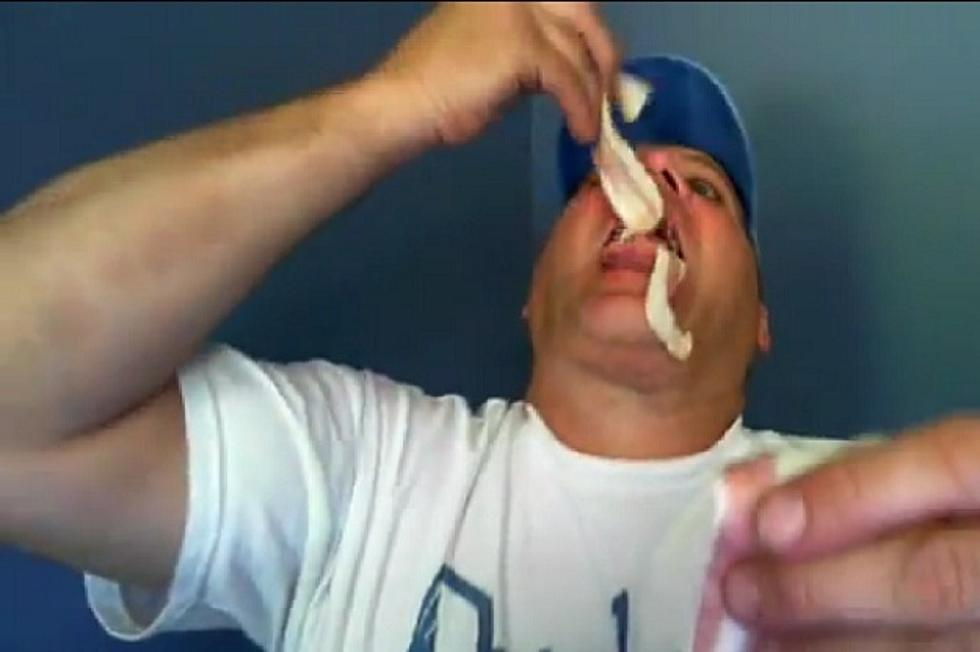bacon: (584, 68, 680, 226)
